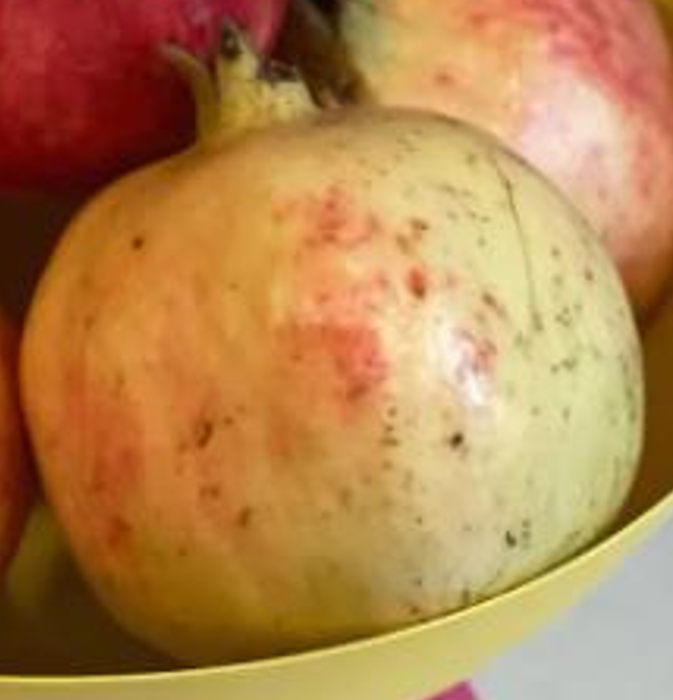pomegranate_B: (18, 19, 647, 668)
